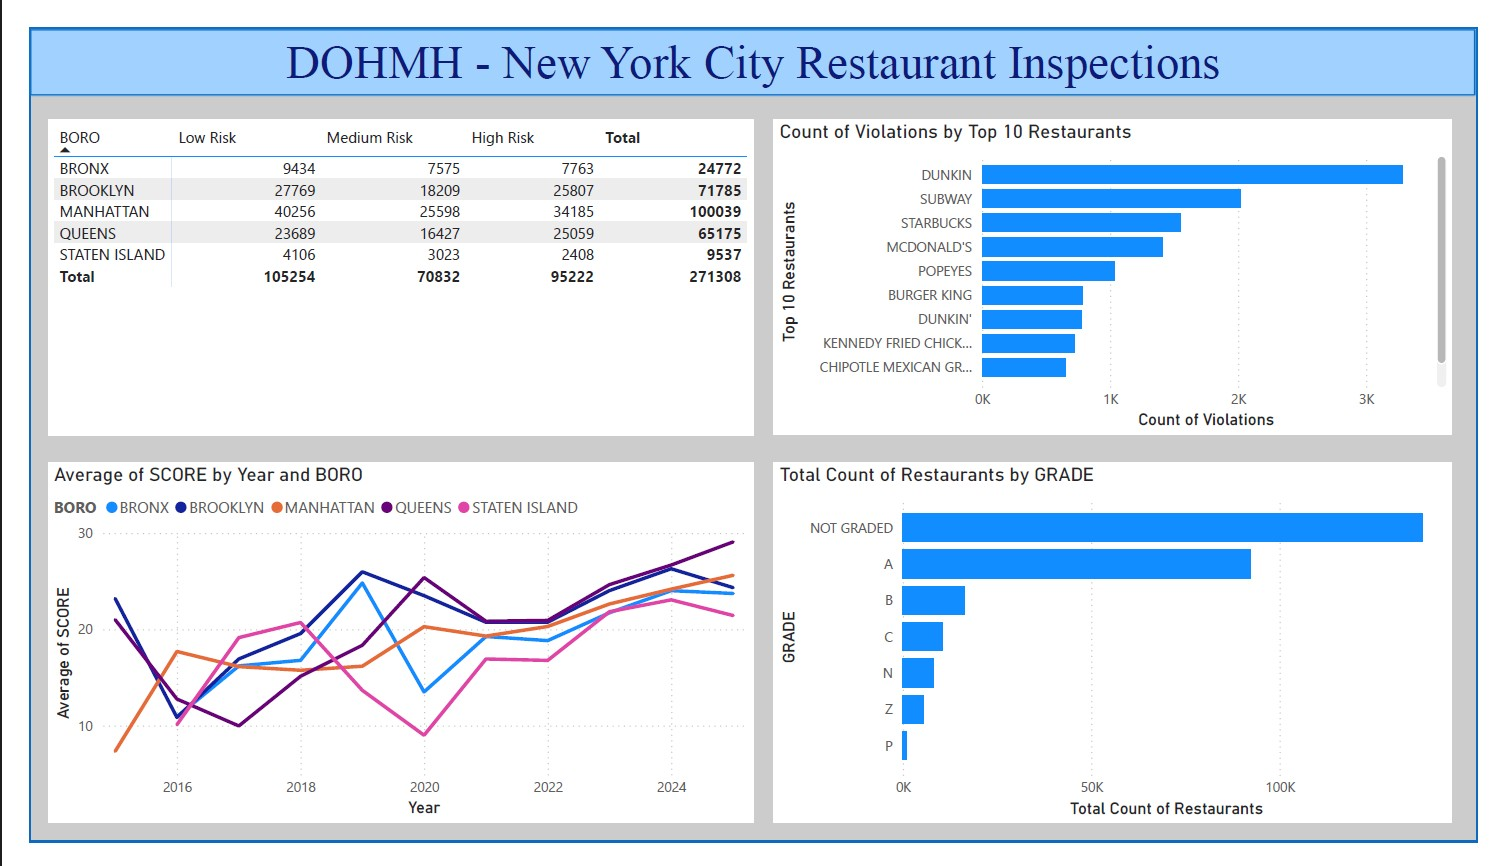

This screenshot's page, from the dashboard's own definition file:
{"tool":"powerbi","page":{"name":"Page 1","canvas":[1280,720],"ordinal":0},"visuals":[{"type":"shape","box":[0,0,1280,719.8],"z":0},{"type":"lineChart","fields":{"Category":["CleanedRestaurantData.INSPECTION_DATE.Variation.Date Hierarchy.Year","CleanedRestaurantData.INSPECTION_DATE.Variation.Date Hierarchy.Quarter","CleanedRestaurantData.INSPECTION_DATE.Variation.Date Hierarchy.Month","CleanedRestaurantData.INSPECTION_DATE.Variation.Date Hierarchy.Day"],"Y":["Avg(CleanedRestaurantData.SCORE)"],"Series":["CleanedRestaurantData.BORO"]},"box":[16.7,385,623.3,318.1],"z":1000},{"type":"barChart","fields":{"Category":["CleanedRestaurantData.GRADE"],"Y":["CountNonNull(CleanedRestaurantData.RES_ID)"]},"box":[657.6,384.6,599.9,318],"z":2000},{"type":"pivotTable","fields":{"Rows":["CleanedRestaurantData.BORO"],"Columns":["RISK_CATEGORY_LOOKUP.RISK_CATEGORY"],"Values":["CountNonNull(CleanedRestaurantData.RISK_CATEGORY)"]},"box":[16.7,82.4,623.3,278.1],"z":3000},{"type":"barChart","fields":{"Category":["CleanedRestaurantData.RES_NAME"],"Y":["CountNonNull(CleanedRestaurantData.VIOLATION_CODE)"]},"box":[657.6,82.2,599.9,277.9],"z":4000},{"type":"shape","box":[0,0,1280,62.1],"z":5000}]}

Visuals, with their boxes in screenshot pixels (x1, y1, x2, y2), scaled from the page's 1280x720 canvas onto the 1501x866 screenshot:
shape: detection(0, 0, 1500, 865)
lineChart - CleanedRestaurantData.INSPECTION_DATE.Variation.Date Hierarchy.Year x CleanedRestaurantData.INSPECTION_DATE.Variation.Date Hierarchy.Quarter: detection(20, 463, 750, 846)
barChart - CleanedRestaurantData.GRADE x CountNonNull(CleanedRestaurantData.RES_ID): detection(771, 463, 1475, 845)
pivotTable - CleanedRestaurantData.BORO x RISK_CATEGORY_LOOKUP.RISK_CATEGORY: detection(20, 99, 750, 434)
barChart - CleanedRestaurantData.RES_NAME x CountNonNull(CleanedRestaurantData.VIOLATION_CODE): detection(771, 99, 1475, 433)
shape: detection(0, 0, 1500, 75)
